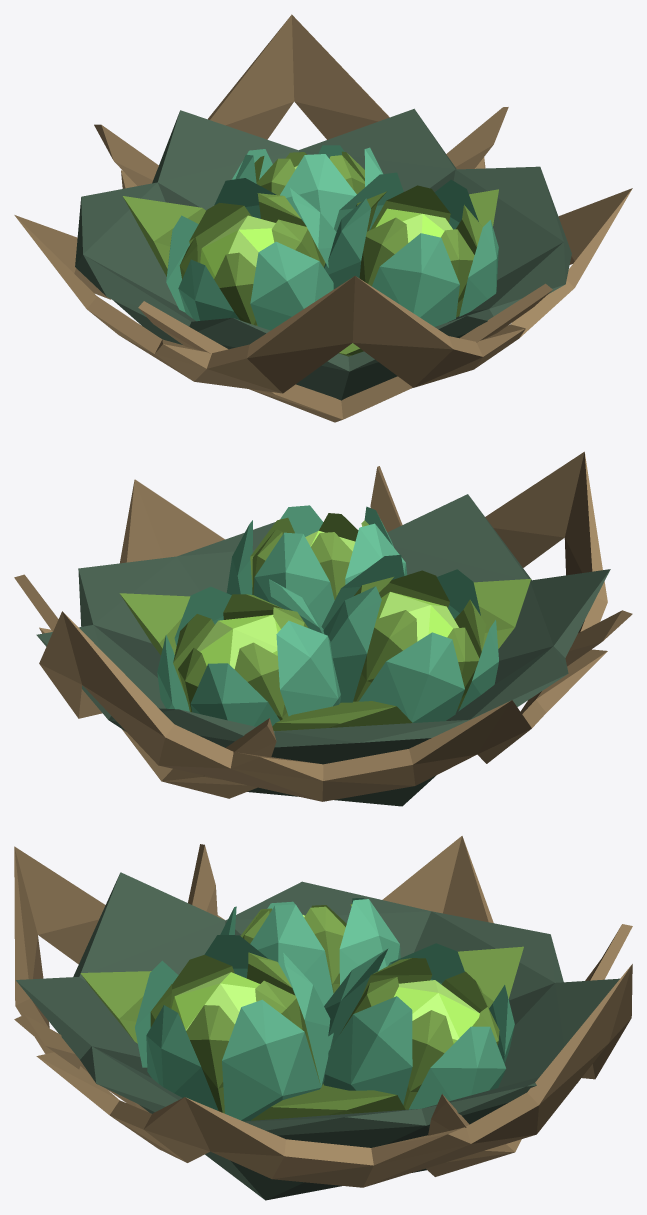
Rendered from seeker.gltf.
3 views of the same model, one above another, from view 1: azimuth 30°, elevation 25°; view 2: azimuth 150°, elevation 25°; view 3: azimuth 270°, elevation 25° (orthographic). The views are drawn at different scales.
Parts seen in each view (by area): view 1: seeker.001; view 2: seeker.001; view 3: seeker.001.
Part boxes in pixels (box(x1,y1,x2,y2)): seeker.001: box(14, 14, 632, 422); seeker.001: box(14, 451, 632, 806); seeker.001: box(14, 836, 632, 1200).
Bounding box in the file's own units: 0.3327 × 0.149 × 0.3327.
Materials: 1 (1 with a texture image).
